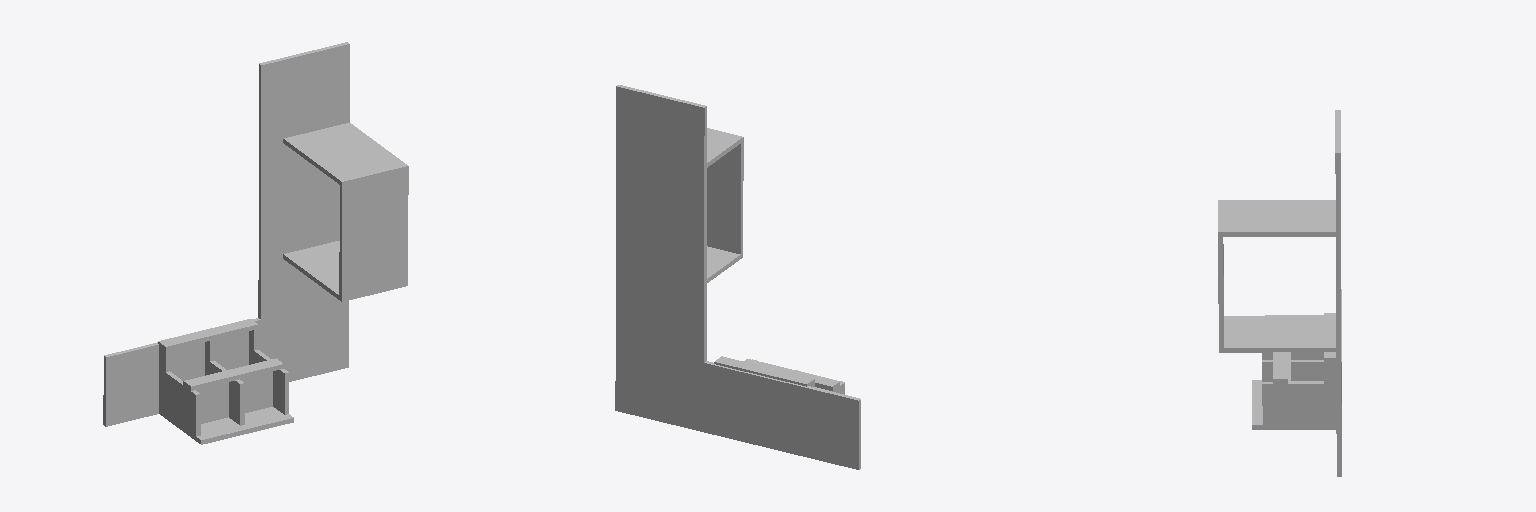
The model's file is industrial.obj.
The picture shows the model from 3 angles: view 1: azimuth 30°, elevation 25°; view 2: azimuth 150°, elevation 25°; view 3: azimuth 270°, elevation 25°; orthographic projection.
Bounding box in the file's own units: 1.1 × 1.4 × 0.4837.